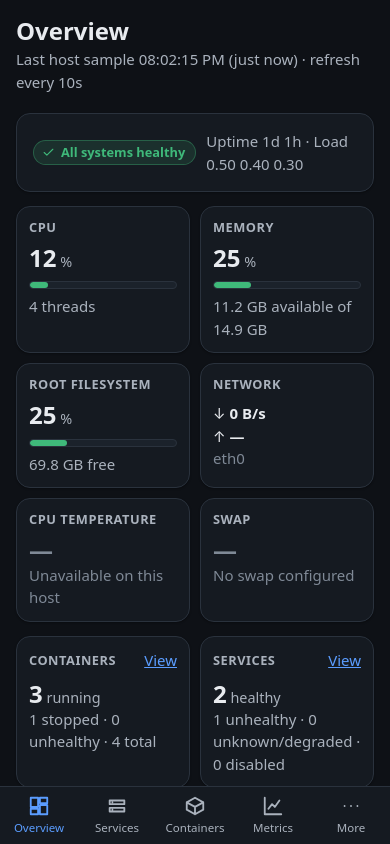
it: App › "More" menu exposes secondary destinations on small screens
The width and height of the screenshot is (390, 844).
expect the heading "Overview" is shown: met, box [16,14,129,47]
Click the button "More".
click(351, 815)  # box [312,787,389,843]
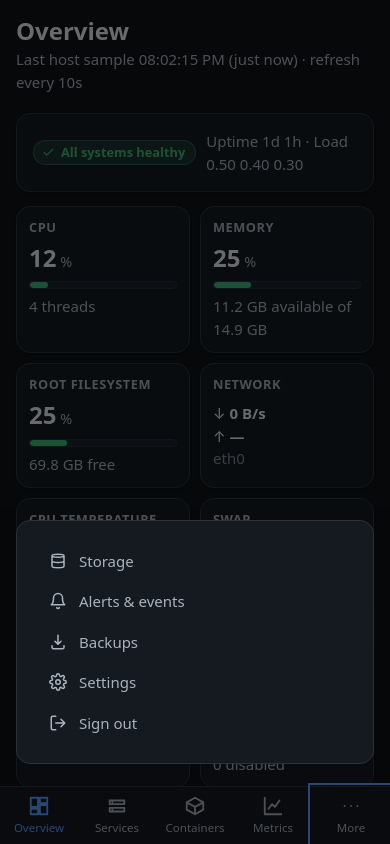
expect the menu shows "Storage": met, box [37,540,353,581]
expect the menu shows "Backups": met, box [37,622,353,662]
expect the menu shows "Settings": met, box [37,662,353,702]
